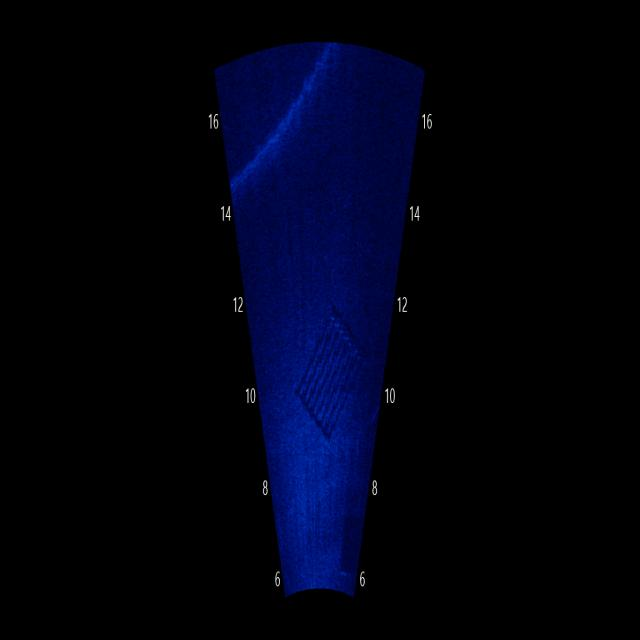square: (288, 286, 367, 462), (334, 508, 372, 586)
